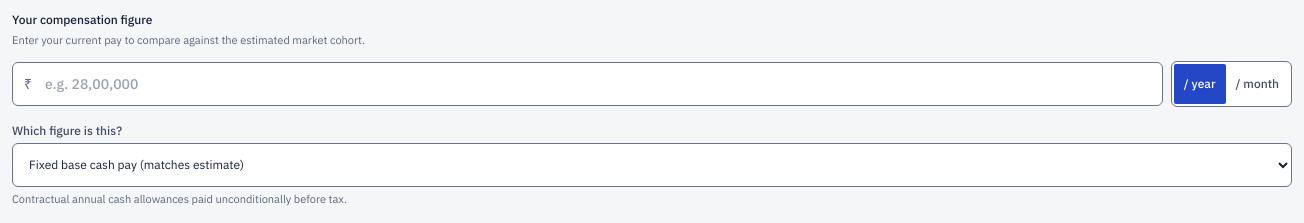
MoneyField › formats input with Indian grouping as user types and converts to LPA
In the field labelled "Your compensation figure": (587, 84) [12,62,1163,106], type "2800000"
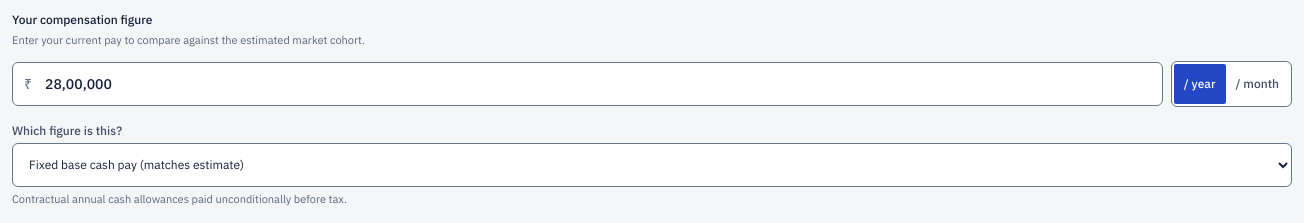
Expected: the field labelled "Your compensation figure" holds "28,00,000", [12,62,1163,106]
